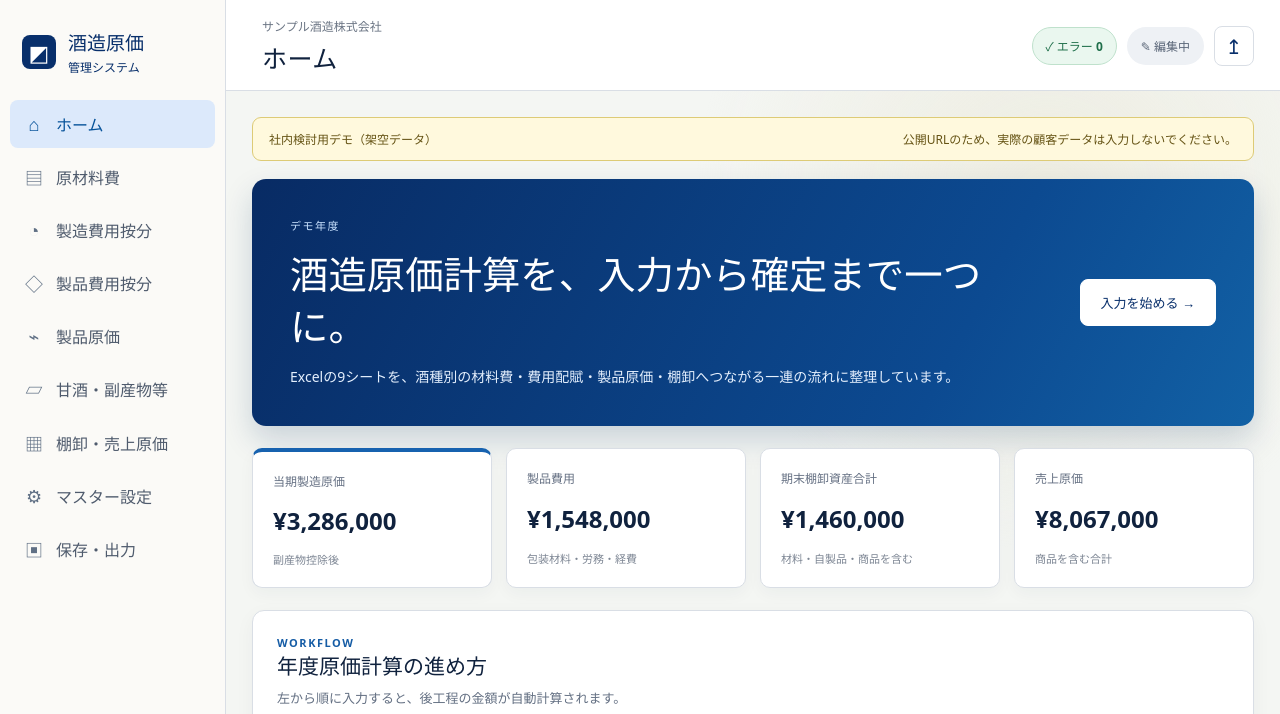
主要画面スモーク › ホームを表示し、棚卸・売上原価へ移動できる
Expected: the heading "酒造原価計算を、入力から確定まで一つに。" is shown, x1=290 y1=249 x2=990 y2=353
What coordinates should you click on to do the following:
click the button "▦ 棚卸・売上原価"
I would click on:
 (112, 443)
Its box is x1=10 y1=418 x2=215 y2=468.
(page scrolled)
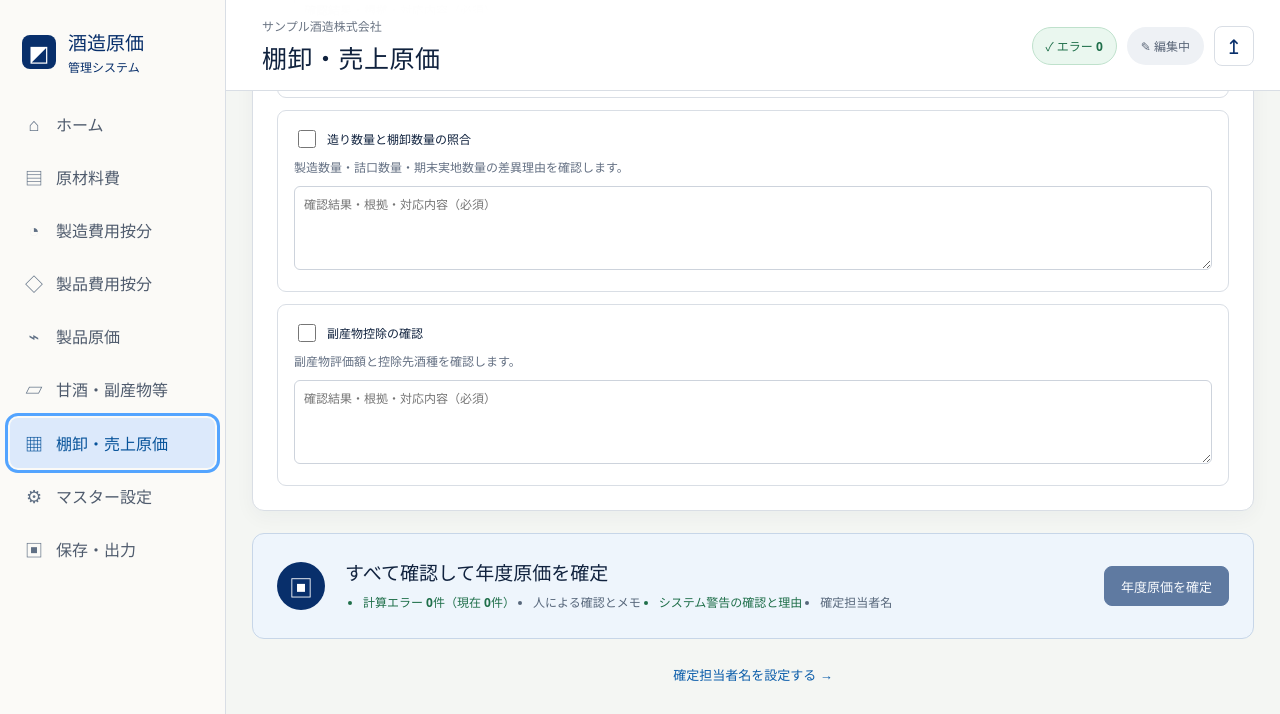
Result: the heading "棚卸・売上原価" is shown at x1=262 y1=39 x2=440 y2=75
Result: the button "年度原価を確定" is disabled at x1=1104 y1=566 x2=1229 y2=606
